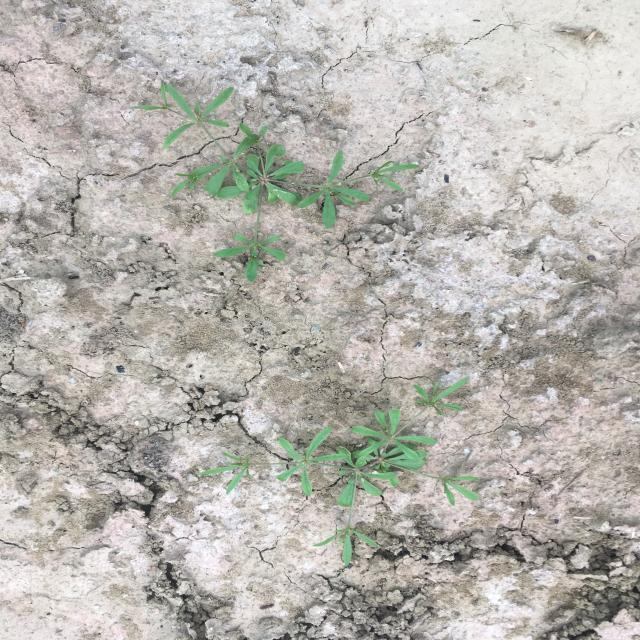Carpetweed: (122, 78, 422, 283), (196, 376, 485, 566)
